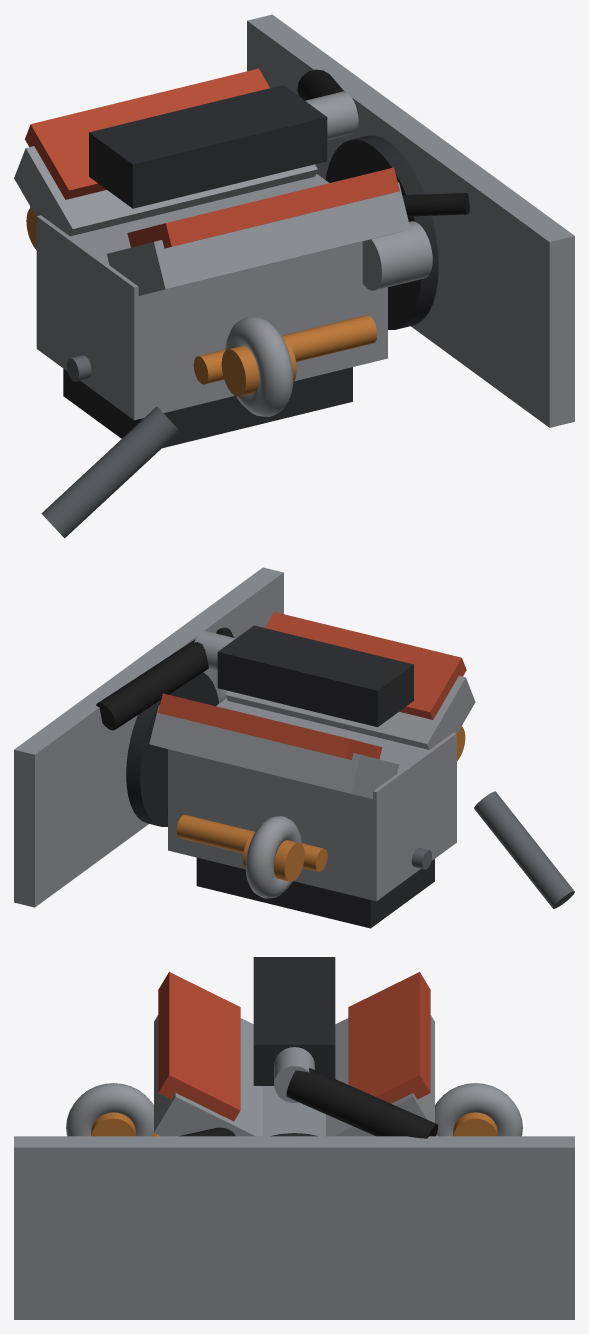
Rendered from demo-engine.glb.
The picture shows the model from 3 angles, top to bottom: view 1: azimuth 30°, elevation 25°; view 2: azimuth 150°, elevation 25°; view 3: azimuth 270°, elevation 25°; orthographic projection. The views are drawn at different scales.
Visible parts, largest first — view 1: engine_block_main, radiator_core, intake_plenum, cylinder_head_R_body, valve_cover_L, engine_oil_pan, cylinder_head_L_body, valve_cover_R, cooling_fan, exhaust_downpipe, turbo_R_housing, alternator_body (+5 smaller); view 2: engine_block_main, radiator_core, intake_plenum, cylinder_head_L_body, engine_oil_pan, valve_cover_R, cylinder_head_R_body, cooling_fan, valve_cover_L, intake_pipe_L, exhaust_downpipe, turbo_L_housing (+3 smaller); view 3: radiator_core, valve_cover_R, intake_plenum, valve_cover_L, intake_pipe_L, cylinder_head_R_body, turbo_R_housing, turbo_L_housing, cylinder_head_L_body, engine_block_main, throttle_body, turbo_L_core (+1 smaller).
Part boxes in pixels (x1,y1,x2,y2): engine_block_main: (36,173,387,420); radiator_core: (247,14,574,427); intake_plenum: (89,85,327,208); cylinder_head_R_body: (107,182,410,295); valve_cover_L: (25,68,269,199); engine_oil_pan: (63,367,352,448); cylinder_head_L_body: (14,146,317,236); valve_cover_R: (127,167,399,248); cooling_fan: (325,135,438,329); exhaust_downpipe: (41,406,179,538); turbo_R_housing: (225,316,293,416); alternator_body: (362,221,432,290); engine_block_main: (168,698,456,901); radiator_core: (14,567,283,907); intake_plenum: (217,625,413,727); cylinder_head_L_body: (149,705,399,798); engine_oil_pan: (196,857,434,928); valve_cover_R: (265,612,466,719); cylinder_head_R_body: (225,675,475,749); cooling_fan: (126,672,218,826); valve_cover_L: (158,693,382,759); intake_pipe_L: (96,639,208,730); exhaust_downpipe: (474,791,574,908); turbo_L_housing: (245,816,301,898); radiator_core: (14,1136,574,1319); valve_cover_R: (158,972,240,1121); intake_plenum: (253,957,335,1085); valve_cover_L: (348,972,430,1103); intake_pipe_L: (286,1068,438,1138); cylinder_head_R_body: (154,1015,262,1136); turbo_R_housing: (66,1083,154,1136); turbo_L_housing: (435,1083,522,1136); cylinder_head_L_body: (326,1015,434,1136); engine_block_main: (263,1086,325,1136); throttle_body: (274,1047,314,1102); turbo_L_core: (453,1112,497,1136).
Bounding box in the file's own units: 1.07 × 0.6871 × 1.24.
